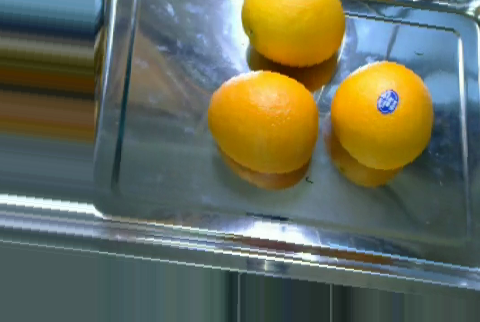Orange: (207, 70, 319, 176), (331, 59, 433, 171)
